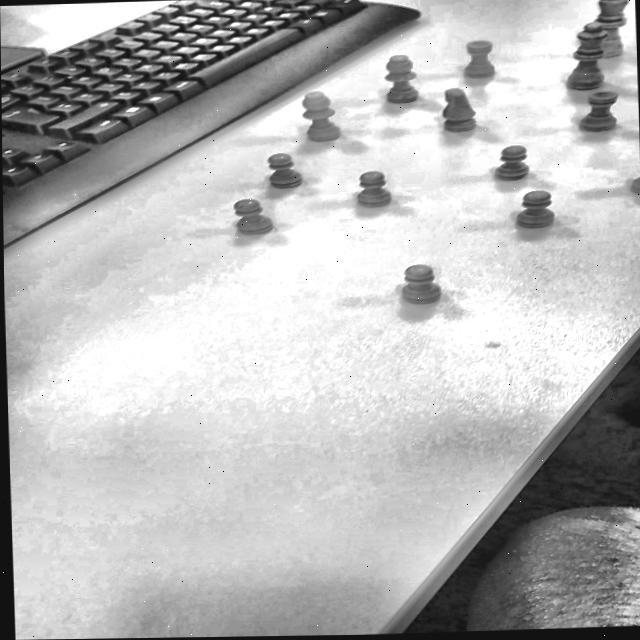white-bishop: (285, 89, 345, 148), (373, 53, 426, 108)
white-king: (565, 0, 636, 65)
white-knight: (428, 86, 479, 138)
white-pawn: (377, 258, 450, 317), (478, 142, 543, 186), (507, 189, 565, 236), (221, 197, 277, 241), (256, 148, 306, 191), (350, 169, 396, 211)
white-queen: (554, 22, 618, 93)
white-rook: (565, 89, 629, 141), (451, 36, 504, 85)
